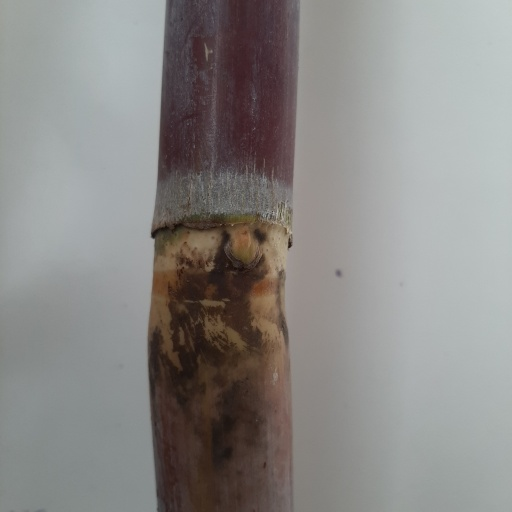Bud: (225, 223, 261, 267)
